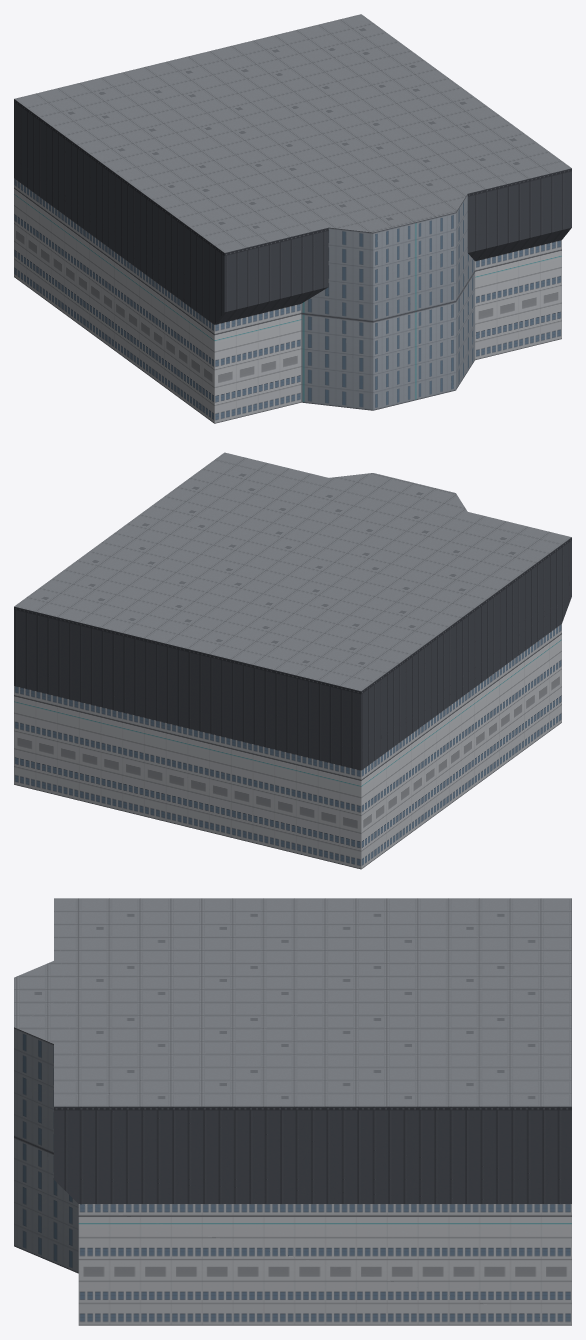
Rendered from BLD_POD_CapEdge.fbx.
3 views of the same model, one above another, from view 1: azimuth 30°, elevation 25°; view 2: azimuth 150°, elevation 25°; view 3: azimuth 270°, elevation 25° (orthographic). The views are drawn at different scales.
Parts seen in each view (by area): view 1: BLD_POD_CapEdge; view 2: BLD_POD_CapEdge; view 3: BLD_POD_CapEdge.
Boxes of the visible parts, bbox=[...] form: BLD_POD_CapEdge: bbox=[14, 14, 571, 423]; BLD_POD_CapEdge: bbox=[14, 452, 571, 869]; BLD_POD_CapEdge: bbox=[14, 898, 571, 1325].
Size of the model in its own units: 100 by 49 by 113.
